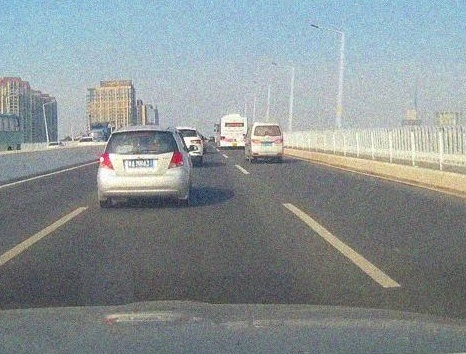L_light: (99, 153, 114, 170), (252, 139, 260, 143)
R_light: (167, 150, 184, 169), (275, 139, 283, 143)
T_light: (136, 130, 149, 133), (264, 125, 270, 127)
day-left: (97, 125, 189, 207)
day-no: (251, 122, 283, 162)
